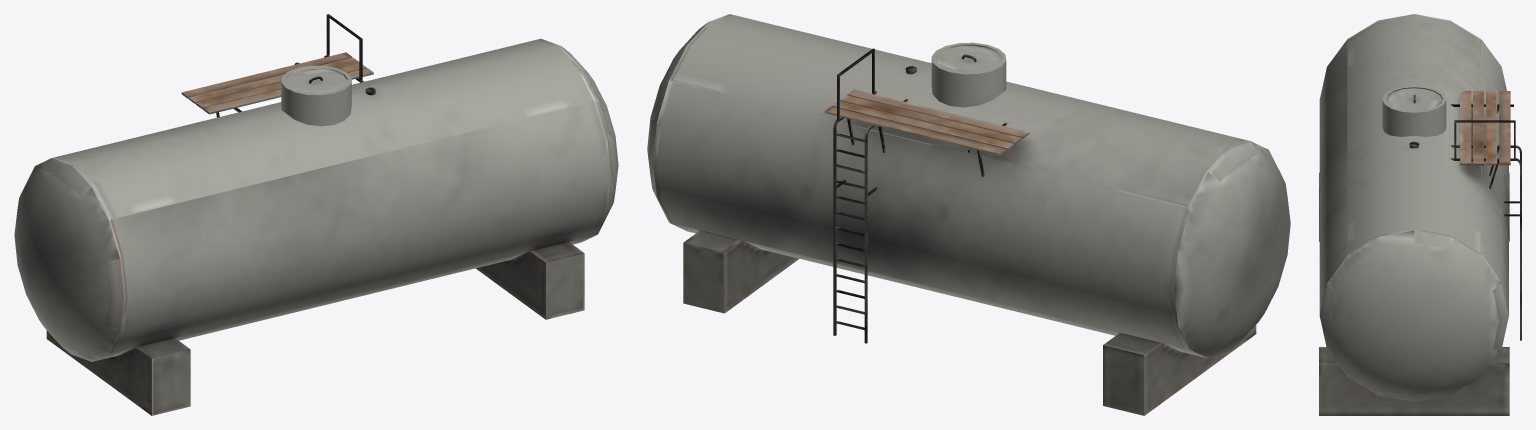
File: oil.FBX
The picture shows the model from 3 angles, left to right: view 1: azimuth 30°, elevation 25°; view 2: azimuth 150°, elevation 25°; view 3: azimuth 270°, elevation 25°; orthographic projection. The views are drawn at different scales.
Parts seen in each view (by area): view 1: tank; view 2: tank; view 3: tank.
Boxes of the visible parts, box(x1,y1,x2,y2) form: tank: box(14, 14, 618, 415); tank: box(647, 14, 1290, 415); tank: box(1319, 14, 1521, 415).
Size of the model in its own units: 0.9285 by 0.4039 by 0.3235.
